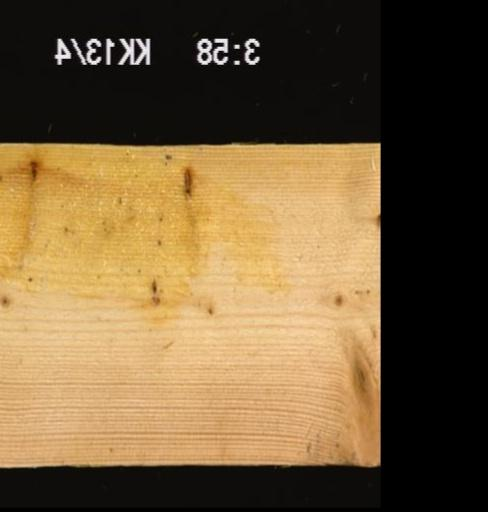small_knot: (319, 271, 378, 335), (374, 211, 378, 228)
